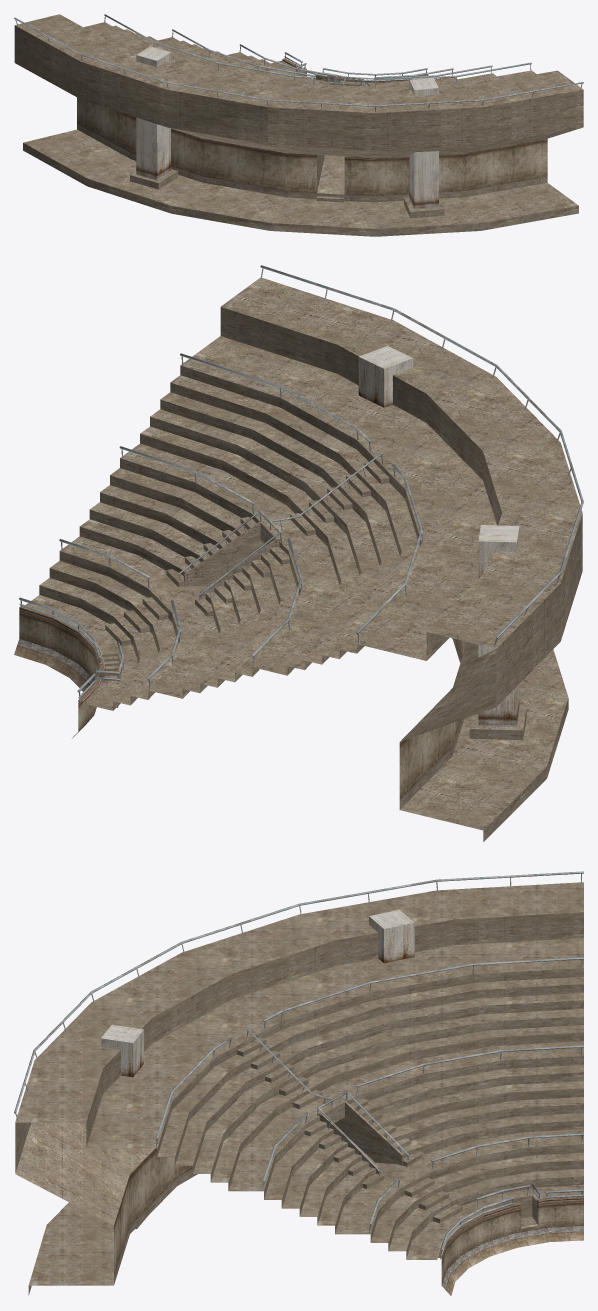
Rendered from StadiumC.glb.
3 renders of one model, top to bottom at view 1: azimuth 30°, elevation 25°; view 2: azimuth 150°, elevation 25°; view 3: azimuth 270°, elevation 25°, orthographic. The views are drawn at different scales.
Visible parts, largest first — view 1: _StadiumC; view 2: _StadiumC; view 3: _StadiumC.
Boxes of the visible parts, bbox=[...] form: _StadiumC: bbox=[14, 14, 583, 236]; _StadiumC: bbox=[14, 265, 583, 841]; _StadiumC: bbox=[14, 871, 583, 1295].
Bounding box in the file's own units: 60.12 × 21.5 × 60.13.
4 materials, 4 textured.
